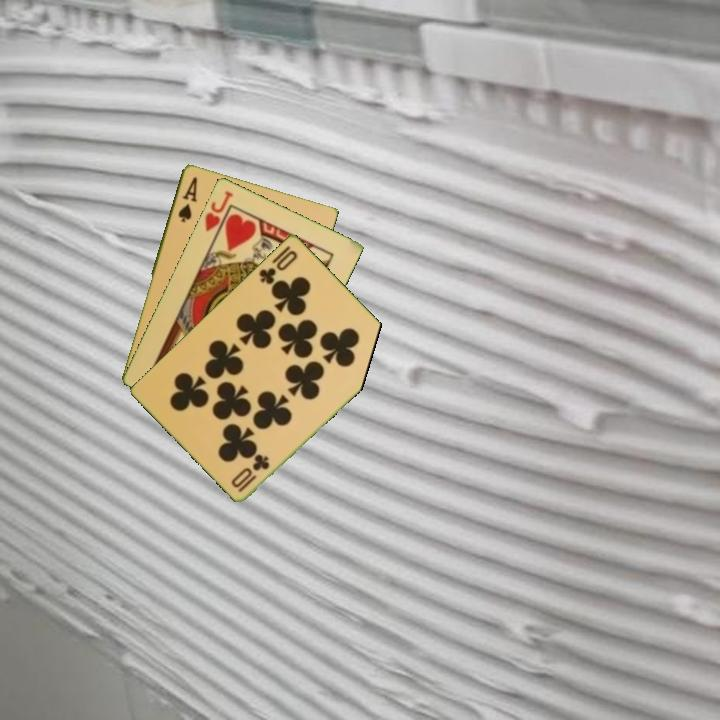10c: (228, 450, 272, 495), (255, 246, 300, 287)
As: (174, 173, 200, 225)
Jh: (201, 187, 236, 241)
